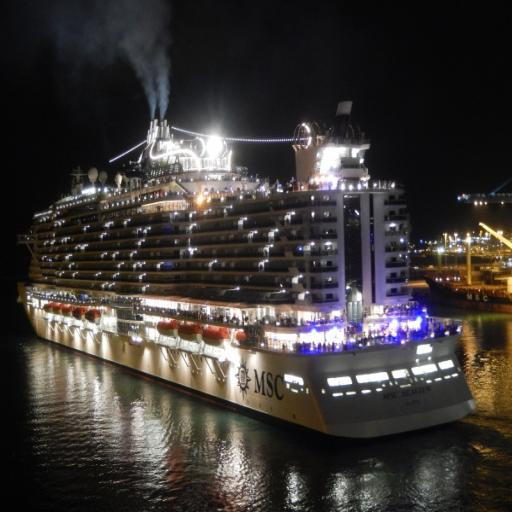cruises: (16, 99, 479, 448)
